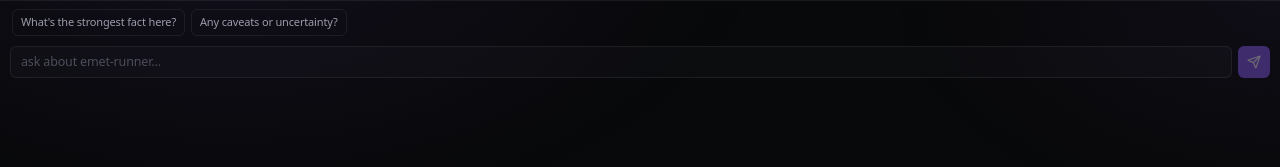
it: SideChat › clicking a suggested question sends it and shows the conversation view
This screenshot has width=1280, height=167.
Click the button "What's the strongest fact here?": (98, 22) 12,9 -> 185,36
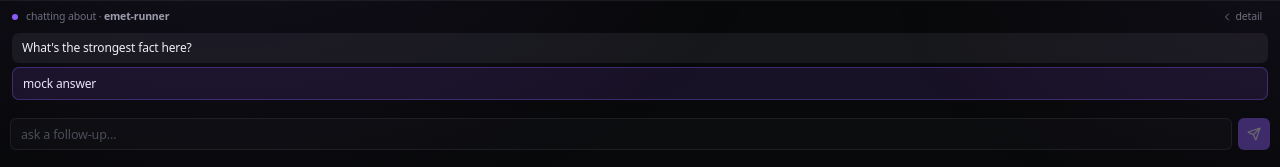
Expected: the text "mock answer" is shown, 12,67 -> 1268,100
Expected: the button "detail" is shown, 1216,7 -> 1268,27
